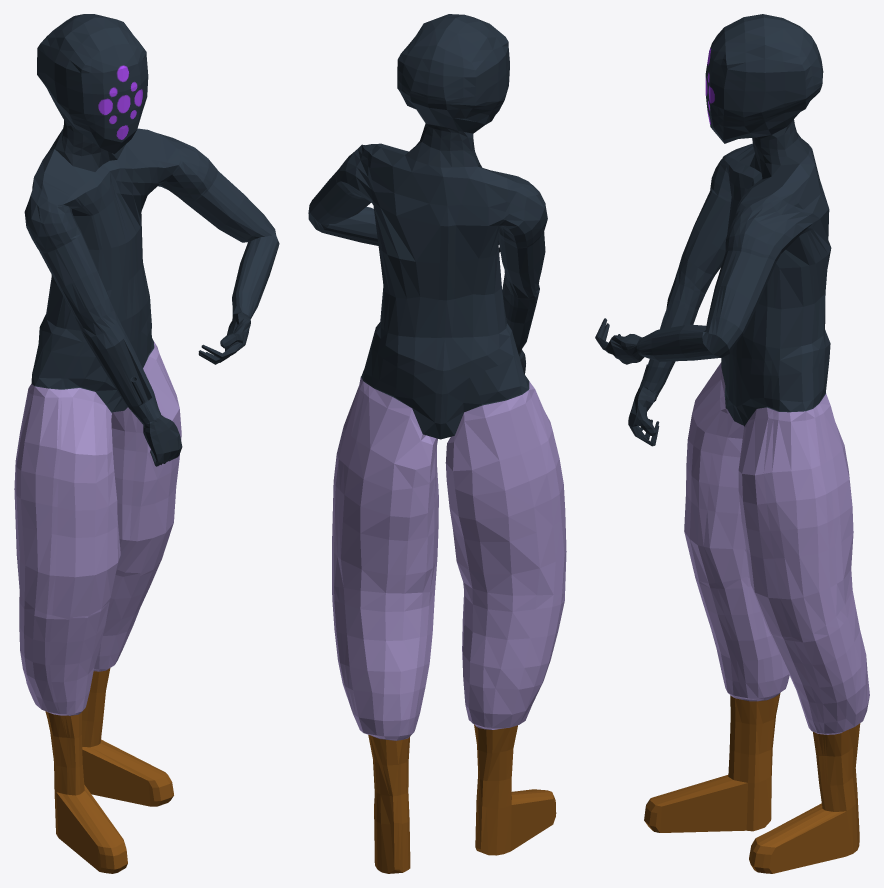
Rendered from Oracle_Reload_000008.obj.
3 renders of one model, left to right at view 1: azimuth 30°, elevation 25°; view 2: azimuth 150°, elevation 25°; view 3: azimuth 270°, elevation 25°, orthographic. The views are drawn at different scales.
Parts seen in each view (by area): view 1: Cube; view 2: Cube; view 3: Cube.
Part boxes in pixels (x1,y1,x2,y2): Cube: (14,14,279,873); Cube: (308,14,566,873); Cube: (595,14,869,873).
Bounding box in the file's own units: 1.27 × 3.94 × 1.19.
